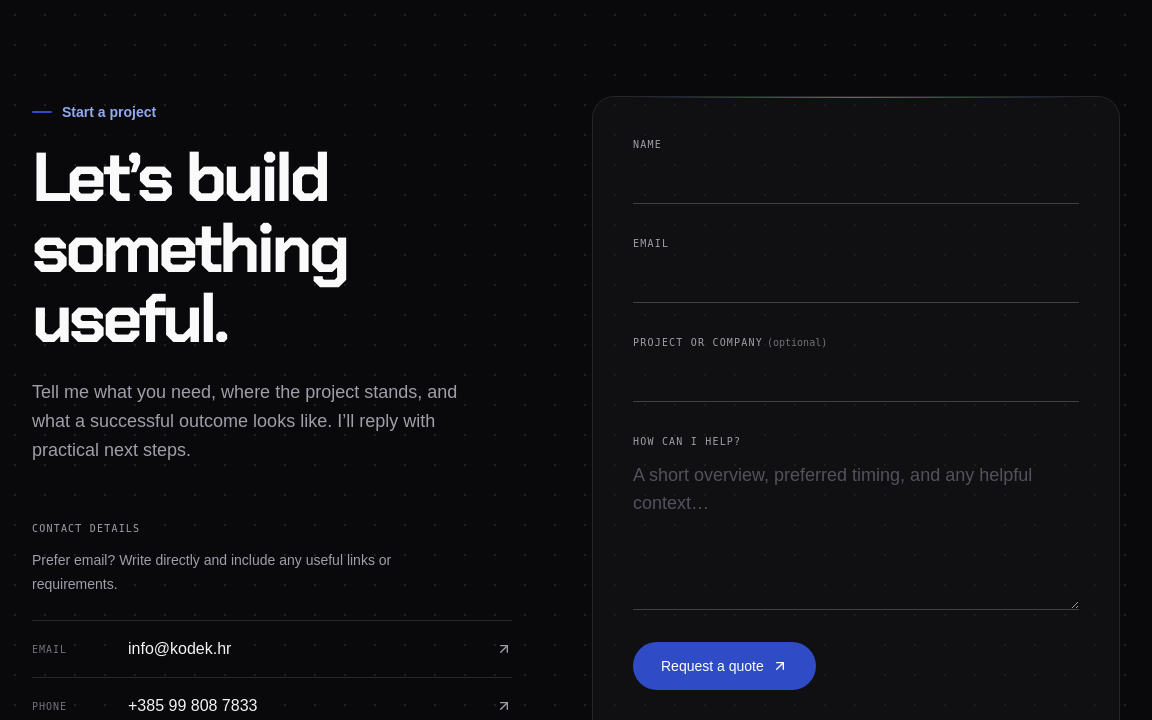
Scenario: ContactPage client-side validation › submits to /api/contact once every field is valid
In the field labelled "Name": [856, 180] box [633,156,1079,204], type "Ada Lovelace"
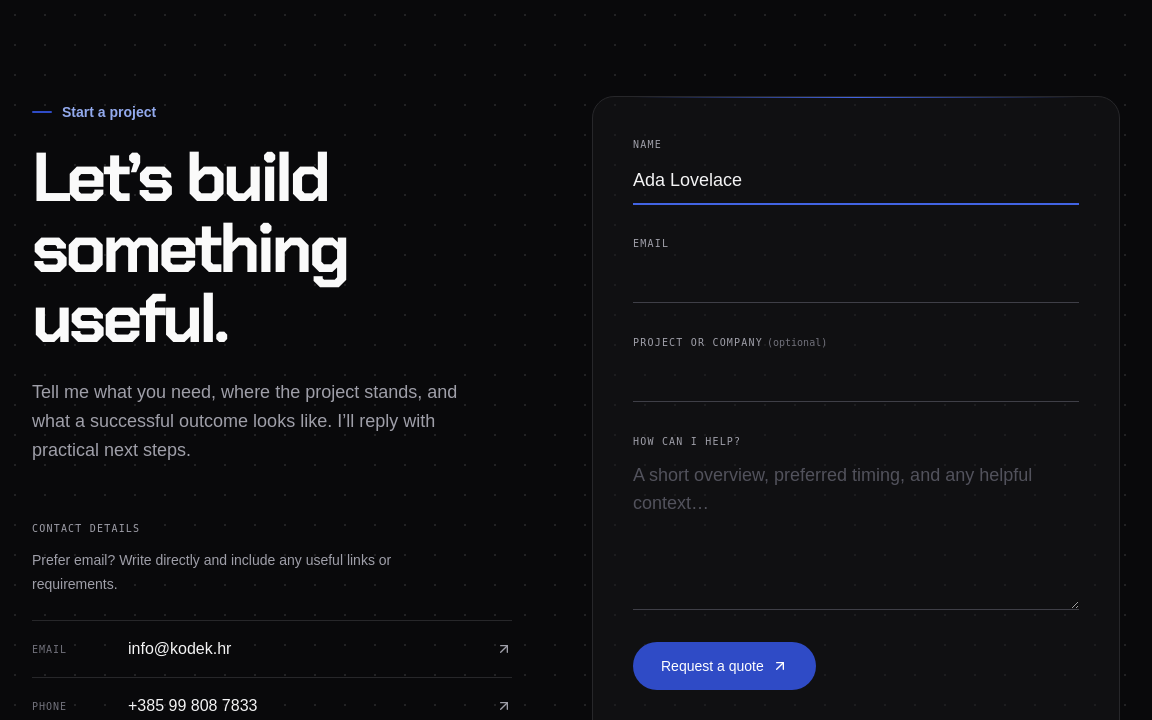
In the field labelled "Email": [856, 279] box [633,255,1079,303], type "ada@example.com"
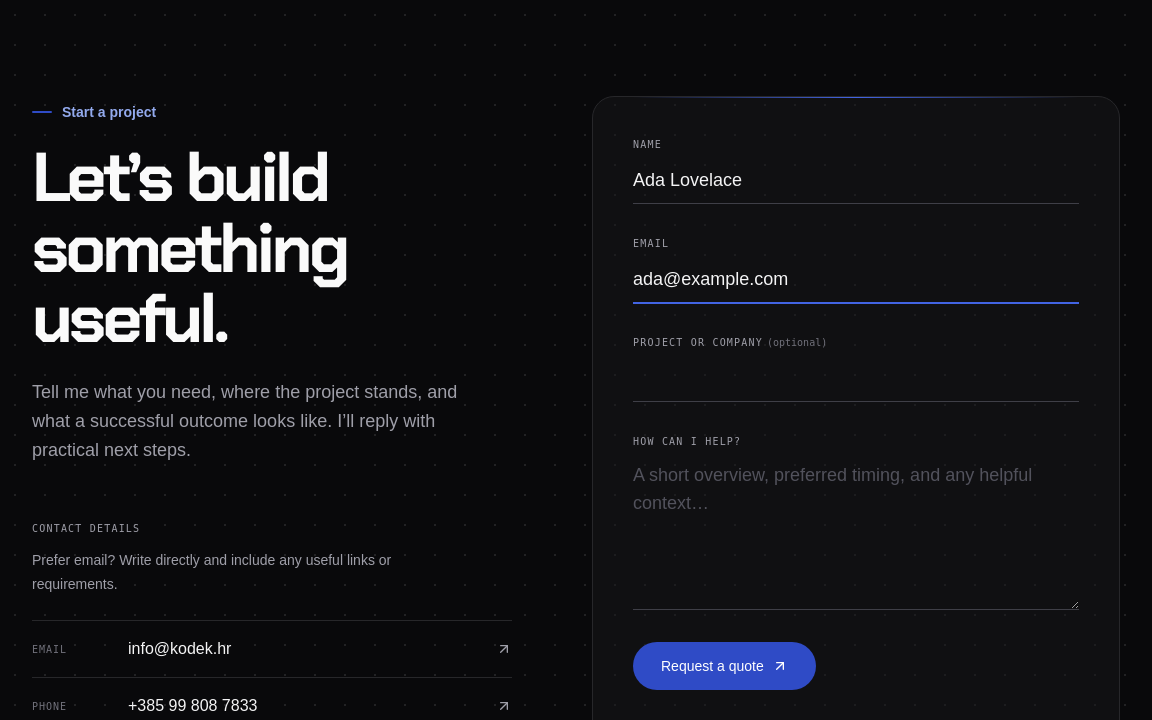
In the text box labelled "How can I help?": [856, 532] box [633,453,1079,610], type "This message is comfortably over ten characters long."
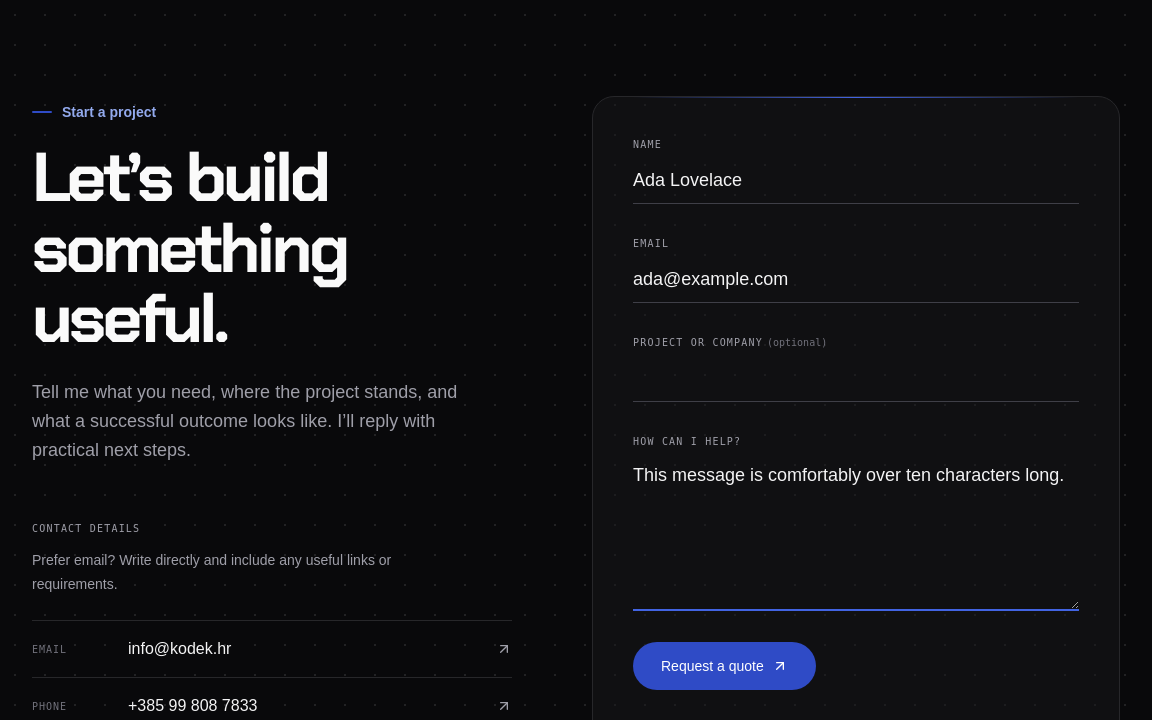
Click the button "Request a quote": [724, 666] box [633,642,816,690]
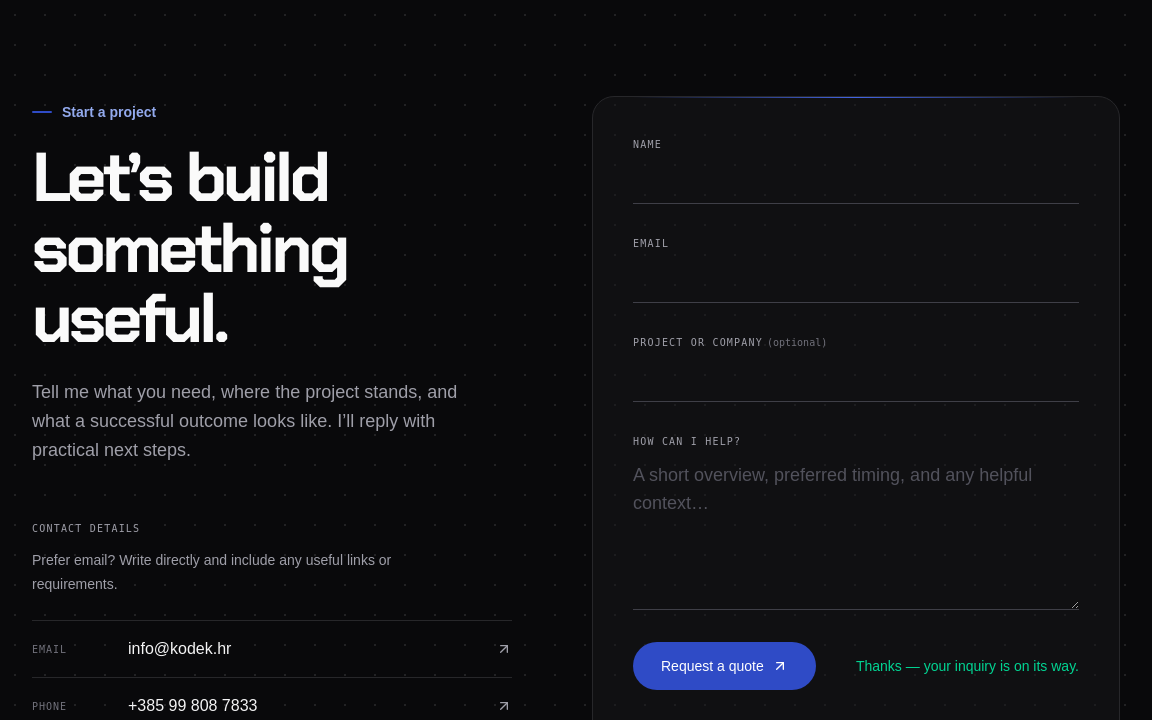
expect the text "Thanks — your inquiry is on its way." is shown: met, box [856,656,1079,676]
